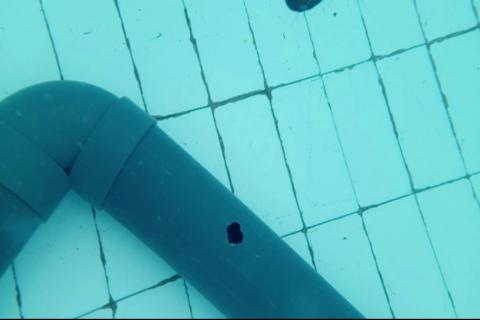kebocoran: (225, 220, 244, 247)
